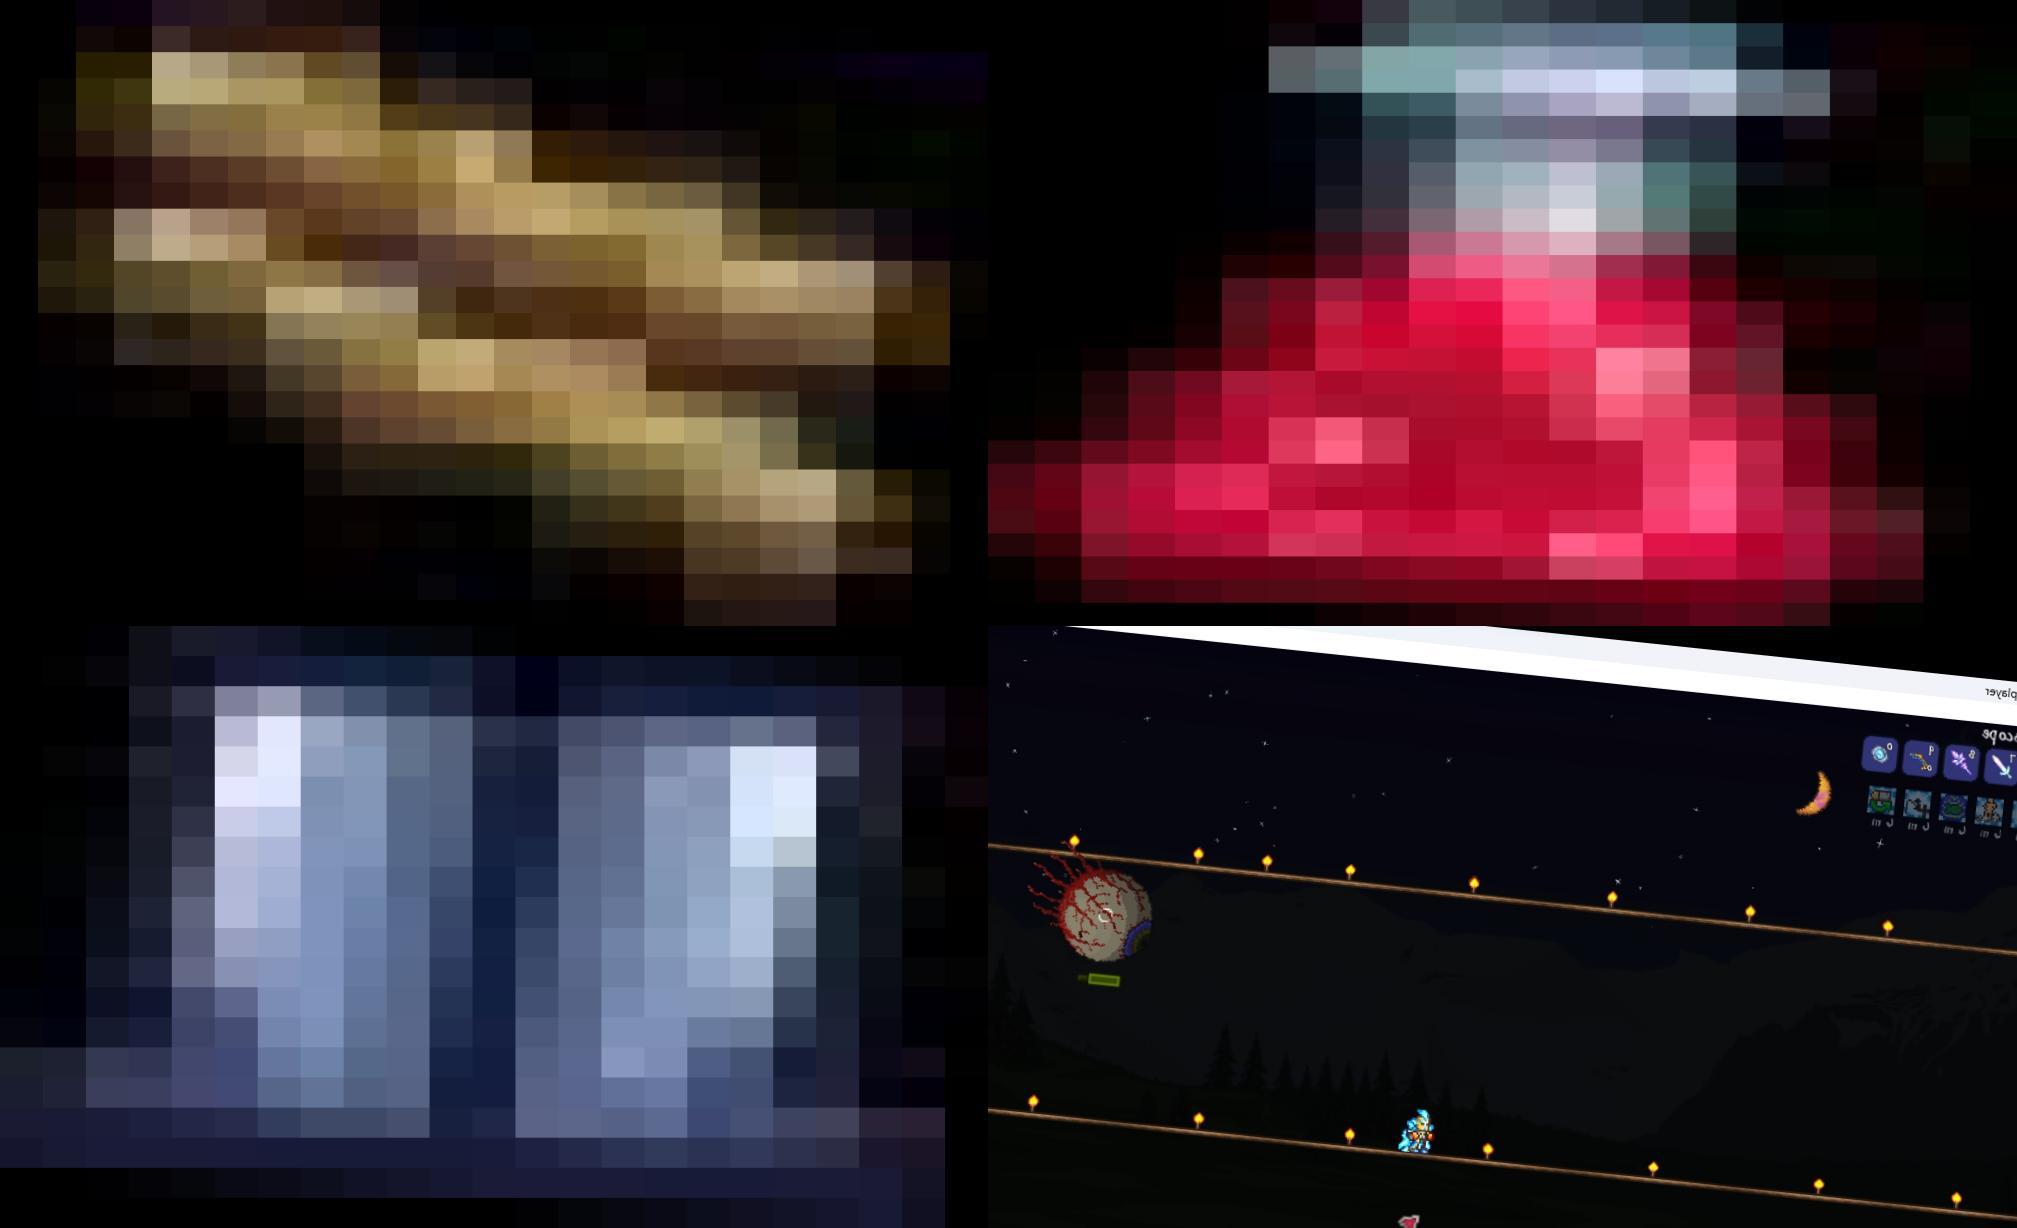eyeC: (1014, 835, 1164, 969)
legs: (0, 626, 988, 1228)
potion: (988, 0, 2017, 626)
wood: (0, 0, 988, 626)
